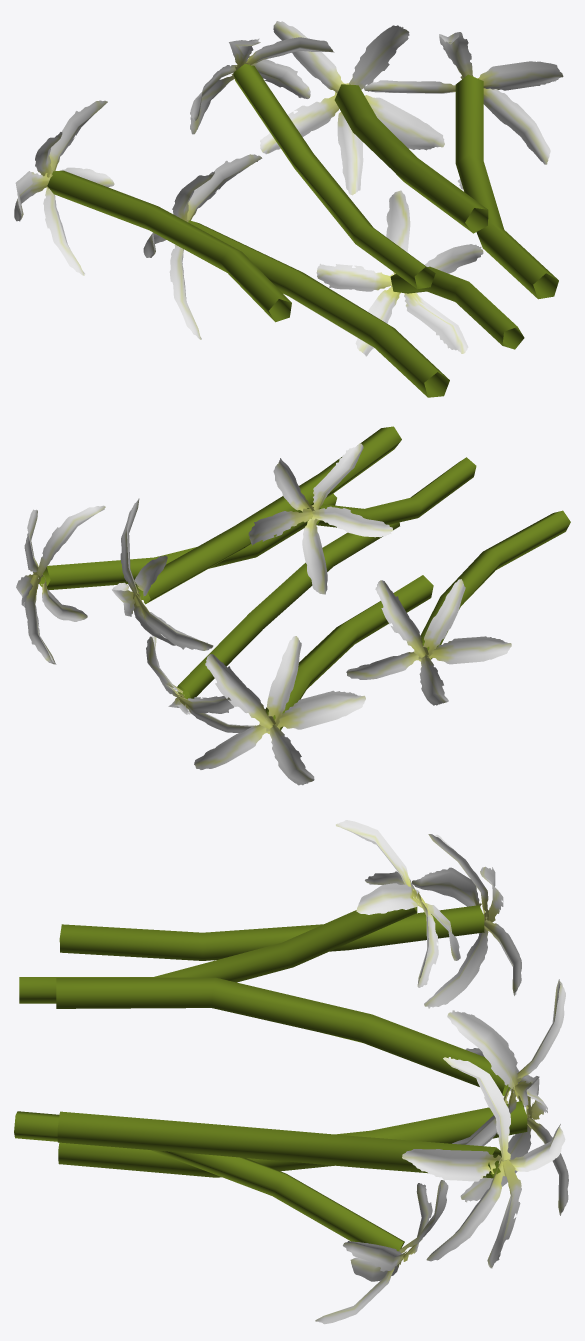
File: flower2.fbx
The picture shows the model from 3 angles, top to bottom: view 1: azimuth 30°, elevation 25°; view 2: azimuth 150°, elevation 25°; view 3: azimuth 270°, elevation 25°; orthographic projection. The views are drawn at different scales.
Parts seen in each view (by area): view 1: Plane.067; view 2: Plane.067; view 3: Plane.067.
Part boxes in pixels (x1,y1,x2,y2): Plane.067: [14, 21, 563, 397]; Plane.067: [16, 426, 570, 785]; Plane.067: [14, 820, 568, 1324].
Bounding box in the file's own units: 81.18 × 51.35 × 64.46.
